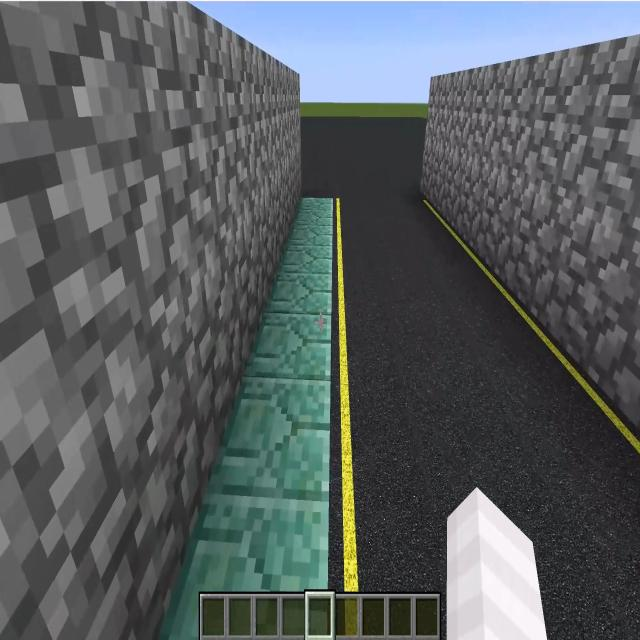road: (302, 119, 639, 639)
sidewalk: (161, 198, 331, 639)
